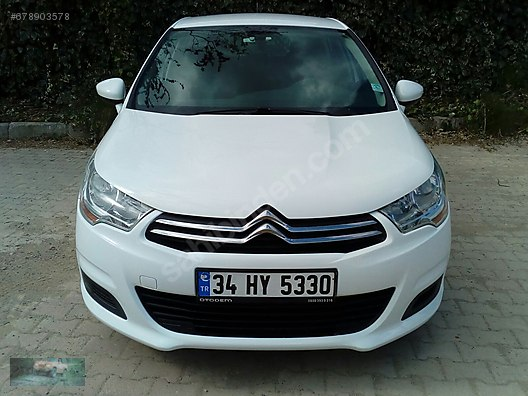c: (67, 9, 462, 363)
